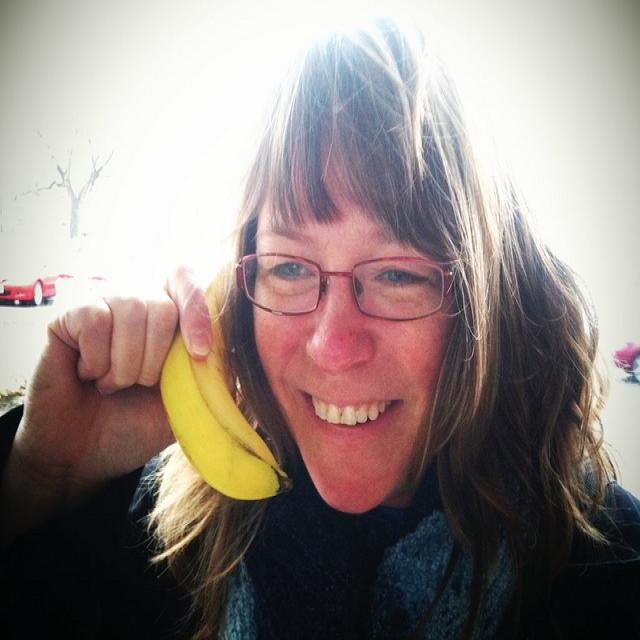Vehicle: (0, 273, 89, 305), (610, 336, 640, 388)
